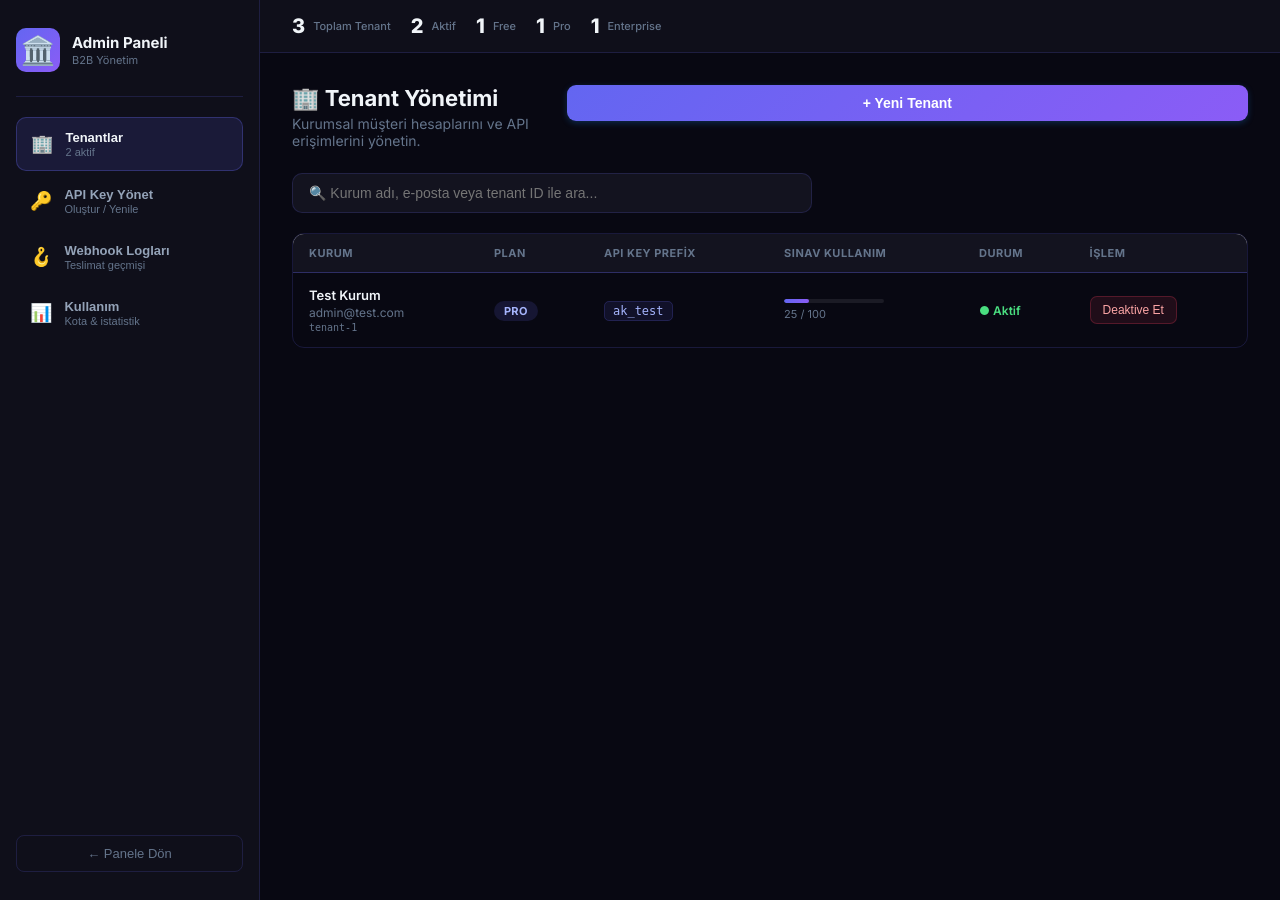
it: AdminPanel › yeni tenant oluşturma modalı açılmalı ve form gönderilmeli
The width and height of the screenshot is (1280, 900).
Click the button "+ Yeni Tenant": {"x": 907, "y": 103} [567, 85, 1248, 121]
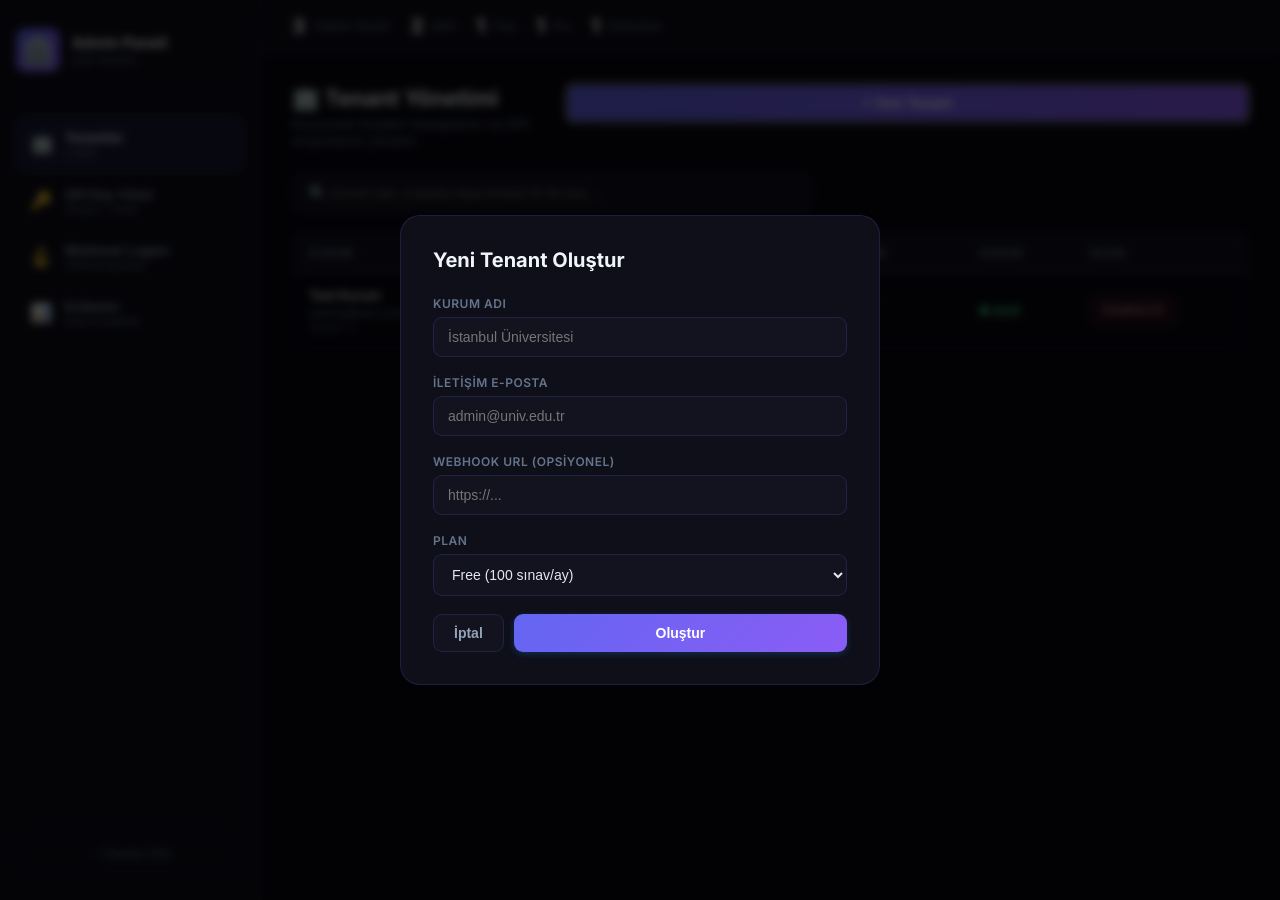
Expected: the heading "Yeni Tenant Oluştur" is shown, [433, 248, 625, 272]
In the field with placeholder "İstanbul Üniversitesi": {"x": 640, "y": 337} [433, 317, 847, 357], type "Yeni Kurum"
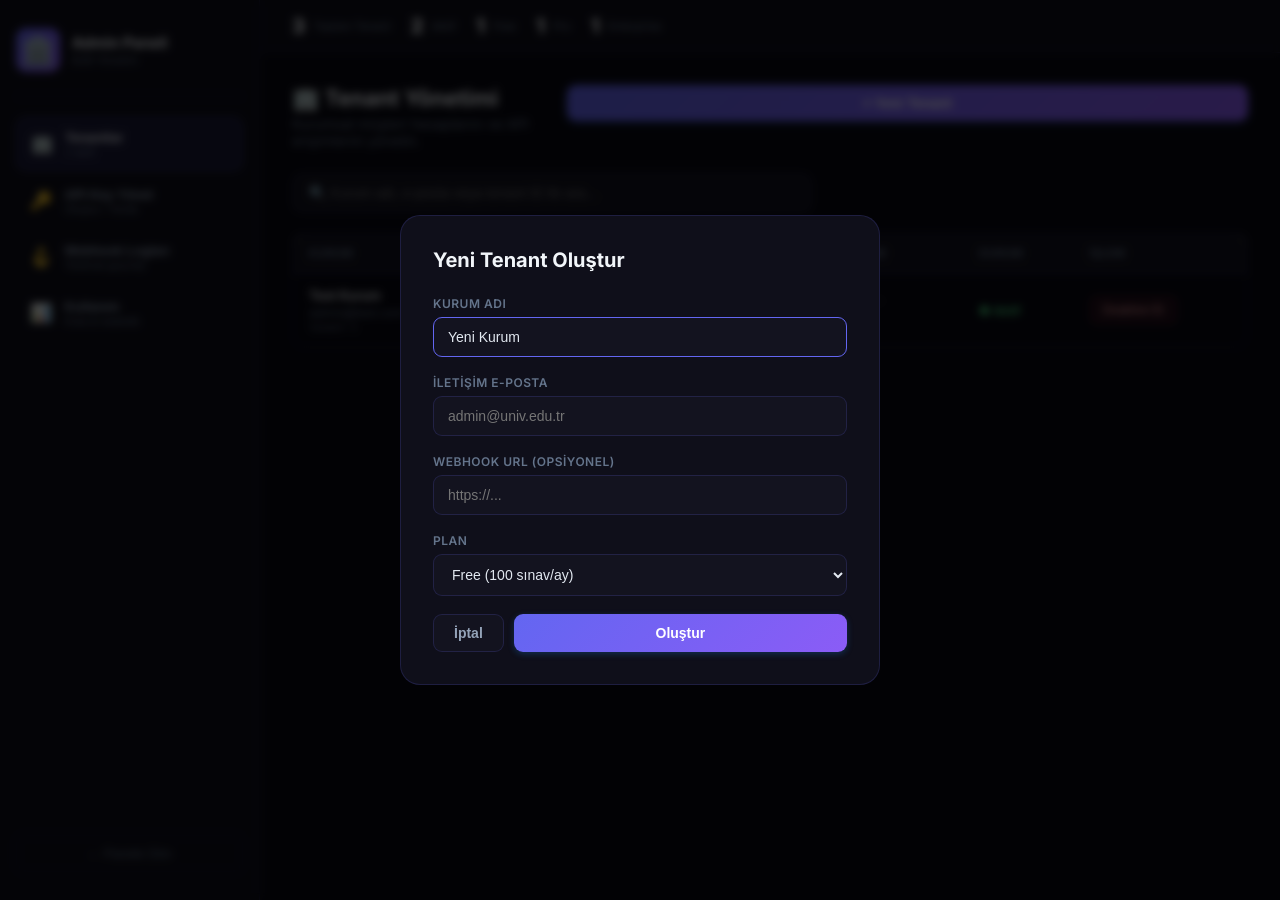
In the field with placeholder "admin@univ.edu.tr": {"x": 640, "y": 416} [433, 396, 847, 436], type "admin@yeni.com"
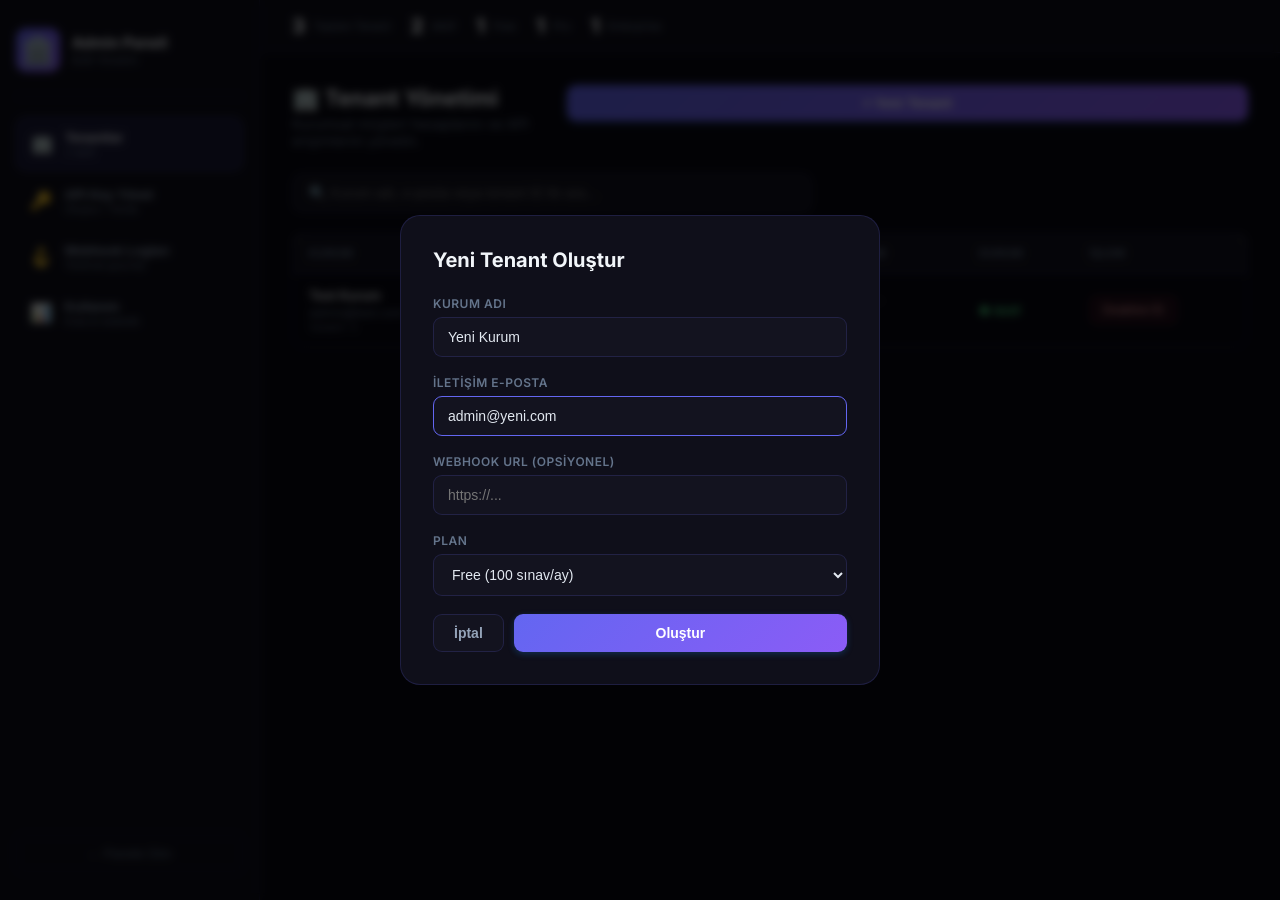
In the field with placeholder "https://...": {"x": 640, "y": 495} [433, 475, 847, 515], type "https://webhook.test"
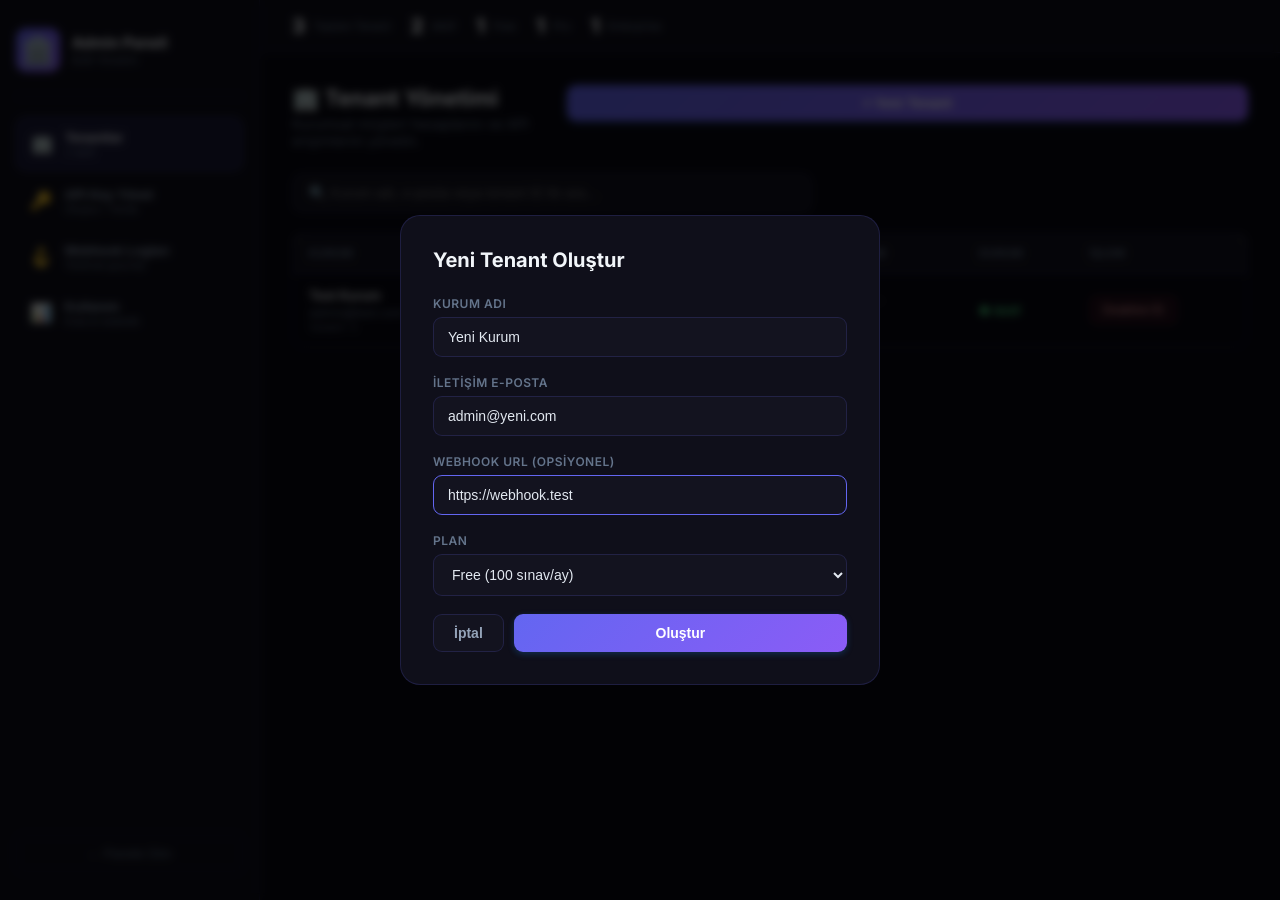
Select "Pro (1000 sınav/ay)" in the dropdown showing "Free (100 sınav/ay)": {"x": 640, "y": 575} [433, 554, 847, 596]
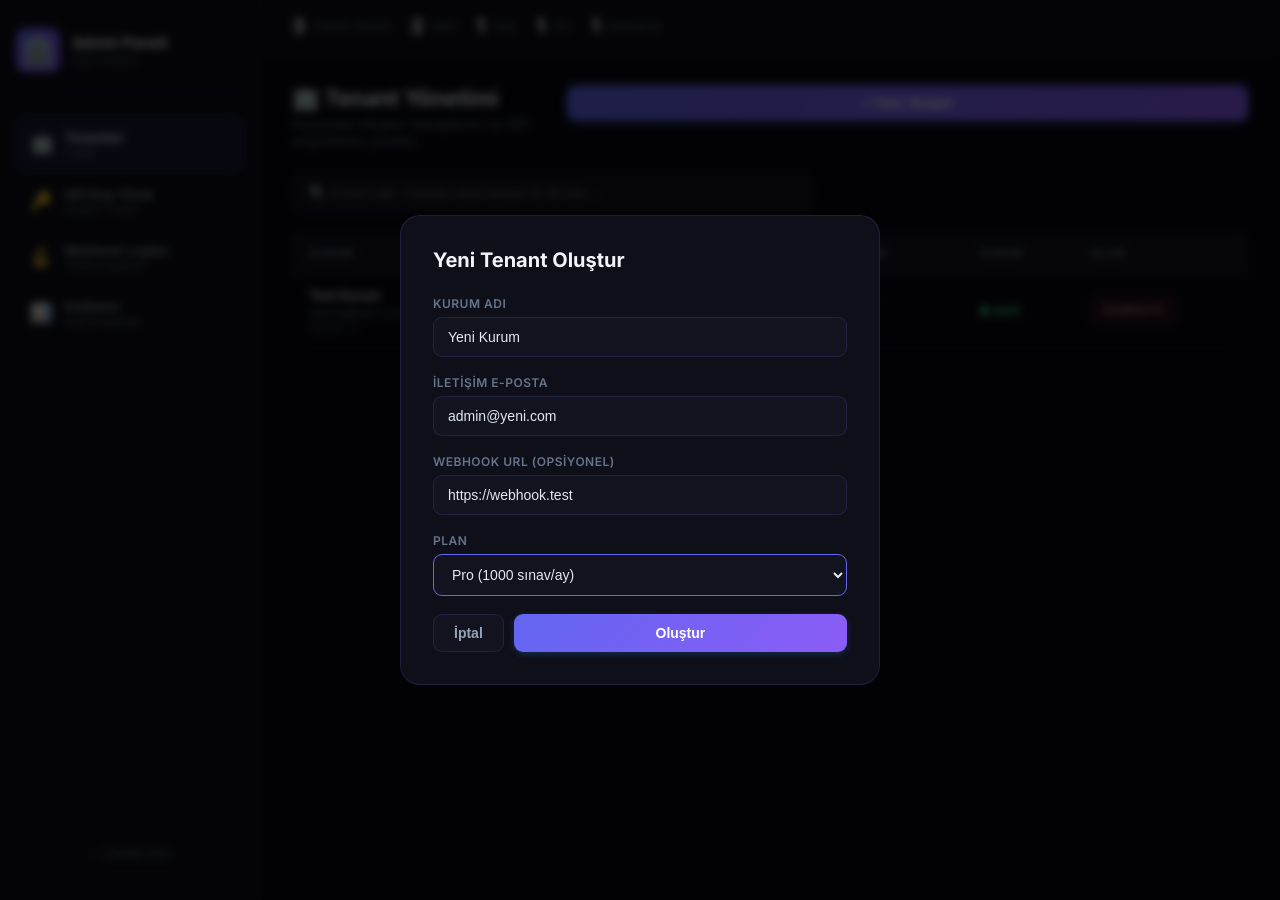
Click the button "Oluştur": {"x": 680, "y": 633} [514, 614, 847, 652]
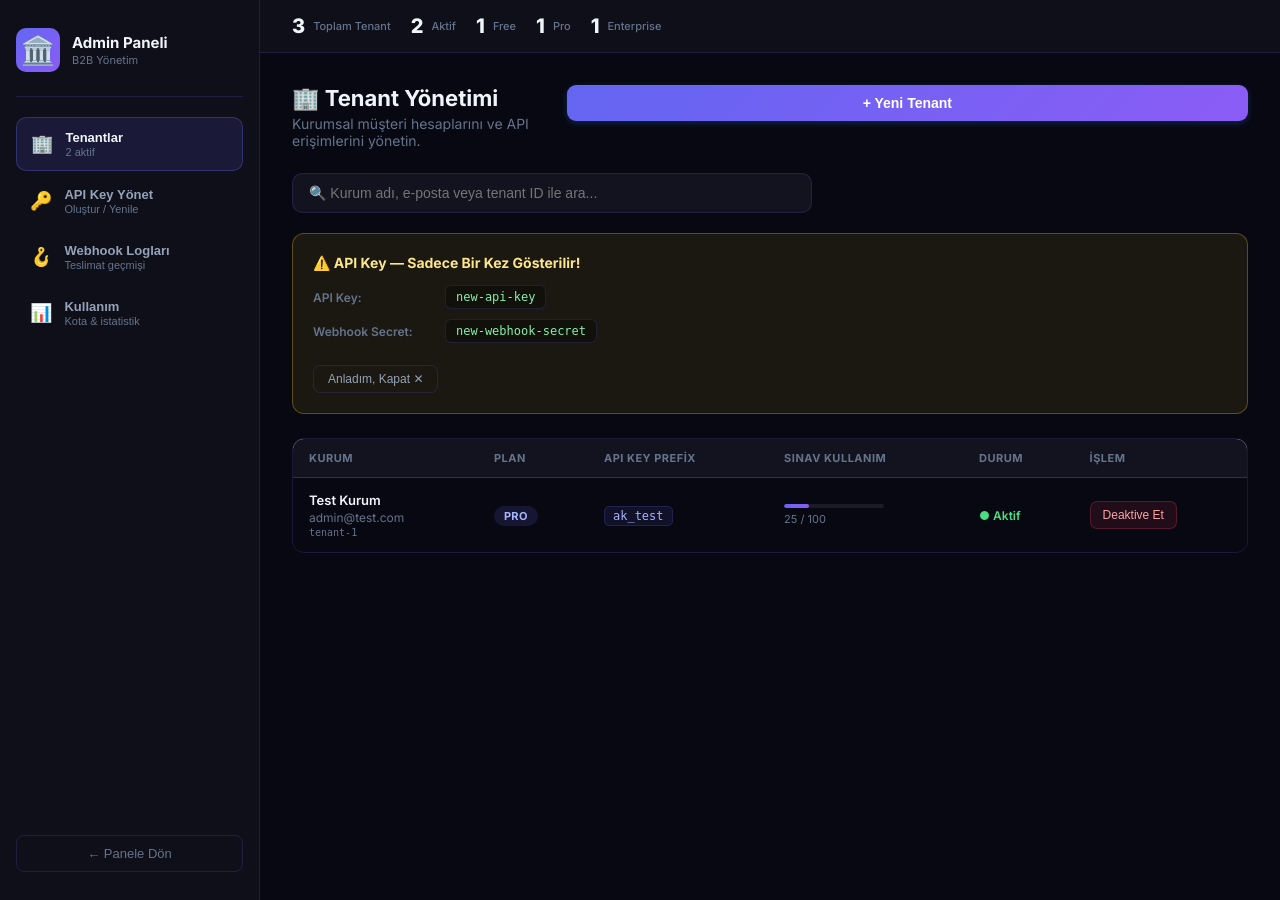
Expected: the text "⚠️ API Key — Sadece Bir Kez Gösterilir!" is shown, [313, 254, 580, 271]
Expected: the text "new-api-key" is shown, [445, 285, 546, 309]
Expected: the text "new-webhook-secret" is shown, [445, 319, 597, 343]
